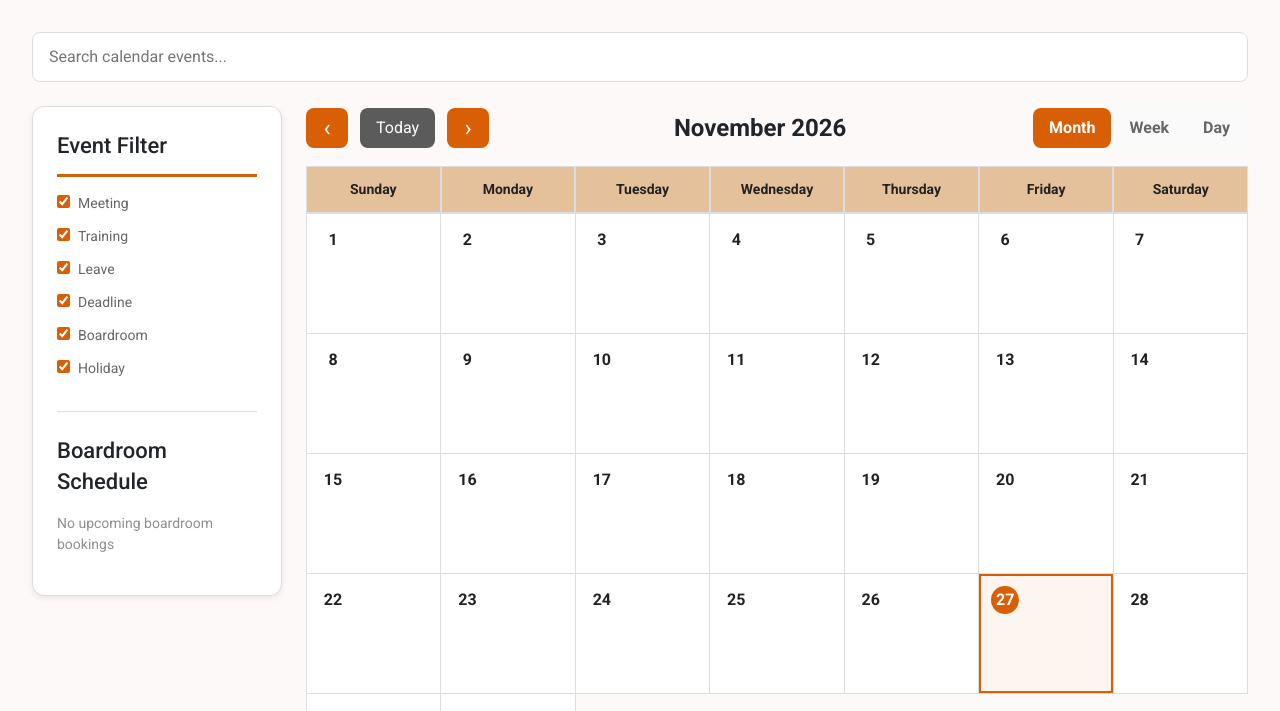
Test: Calendar - day events modal › opens the booking form from inside the day modal and closes the day modal
Click the element with class "date-number" at (912, 274), box x1=845 y1=214 x2=979 y2=334
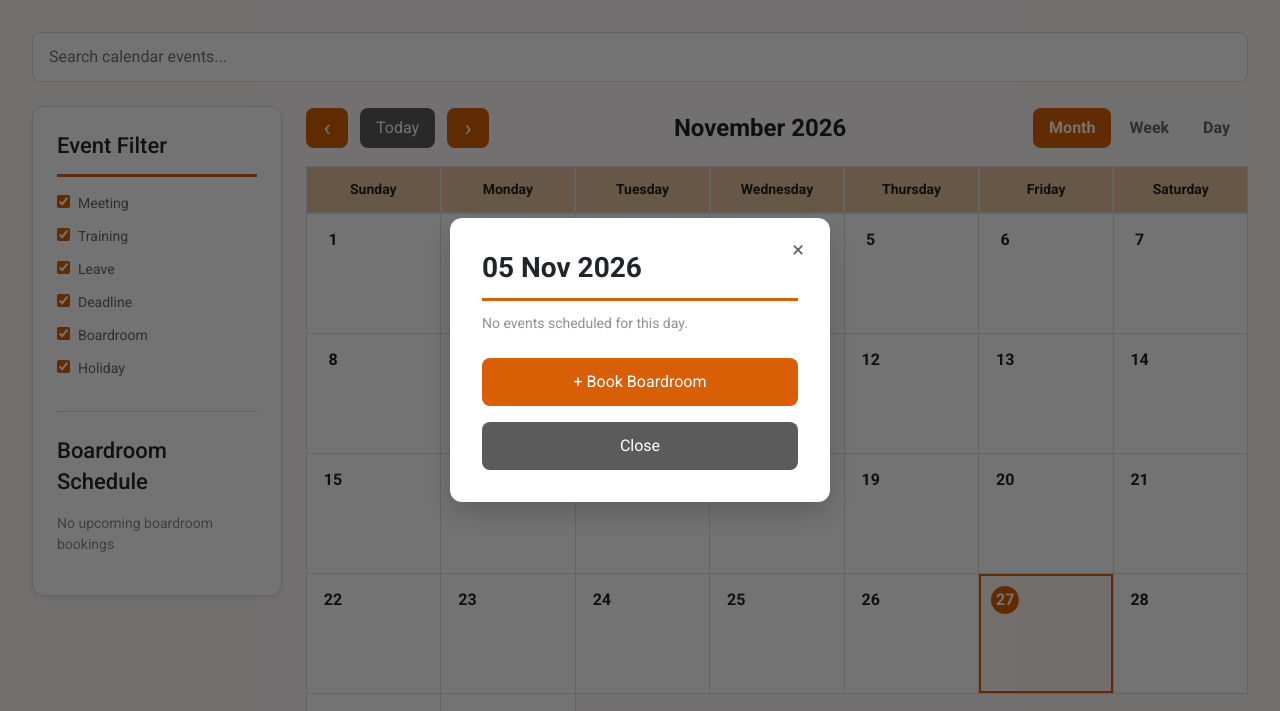
Result: the text "No events scheduled for this day." is shown at x1=482 y1=315 x2=688 y2=331
Click the button "+ Book Boardroom" at (640, 382), box x1=482 y1=358 x2=798 y2=406
(page scrolled)
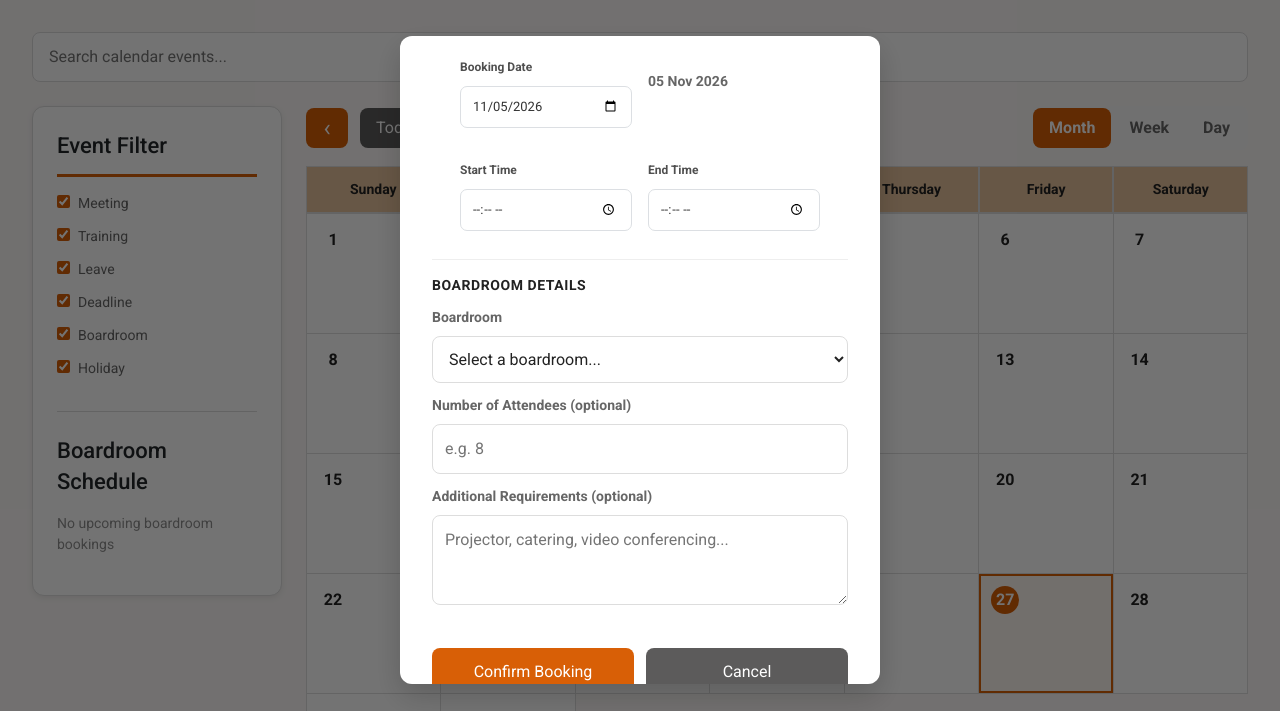
Result: the dropdown is shown at x1=432 y1=336 x2=848 y2=383
Result: the text "No events scheduled" is gone
